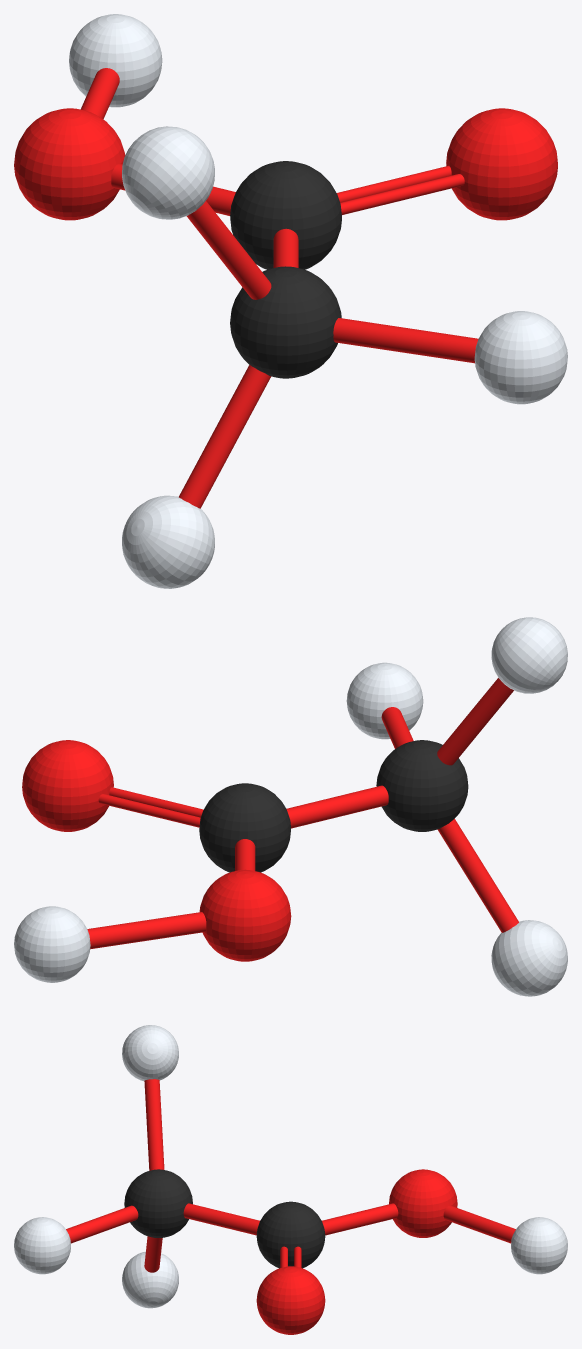
The model's file is acetic_acid.fbx.
3 renders of one model, top to bottom at view 1: azimuth 30°, elevation 25°; view 2: azimuth 150°, elevation 25°; view 3: azimuth 270°, elevation 25°, orthographic. The views are drawn at different scales.
Visible parts, largest first — view 1: alkanoic_acid; view 2: alkanoic_acid; view 3: alkanoic_acid.
Boxes of the visible parts, x1=… form: alkanoic_acid: x1=14, y1=14, x2=567, y2=588; alkanoic_acid: x1=14, y1=617, x2=567, y2=996; alkanoic_acid: x1=14, y1=1025, x2=567, y2=1334.
Bounding box in the file's own units: 199 × 161 × 290.
